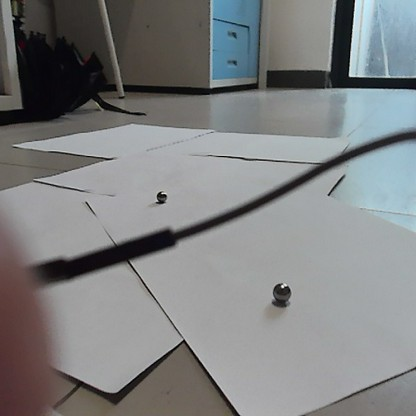ironball: (270, 279, 291, 304), (154, 188, 167, 206)
